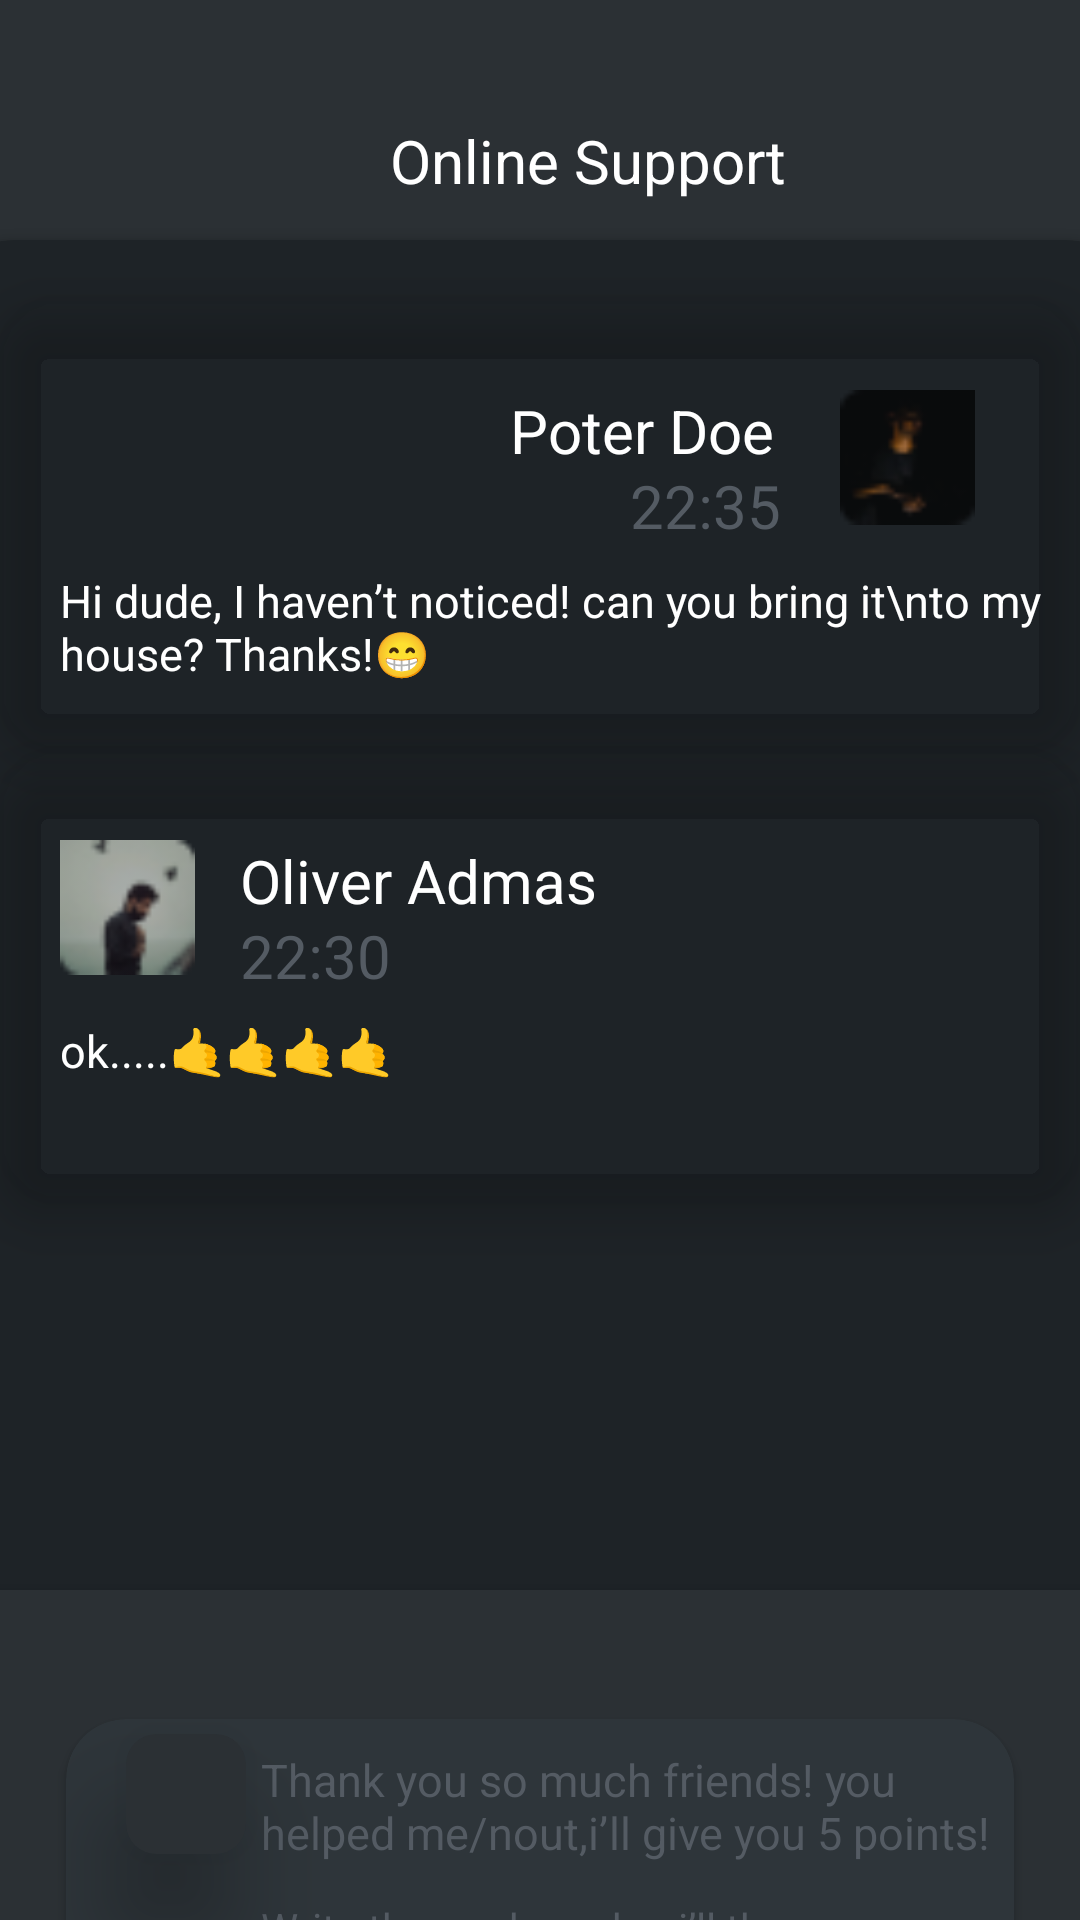

Where icons sit on this 1080w x 1920h app screen, as (x1=x1, y1=y1, x2=x2, y2=y2):
user: (x1=840, y1=390, x2=975, y2=525), (x1=60, y1=840, x2=195, y2=975)
